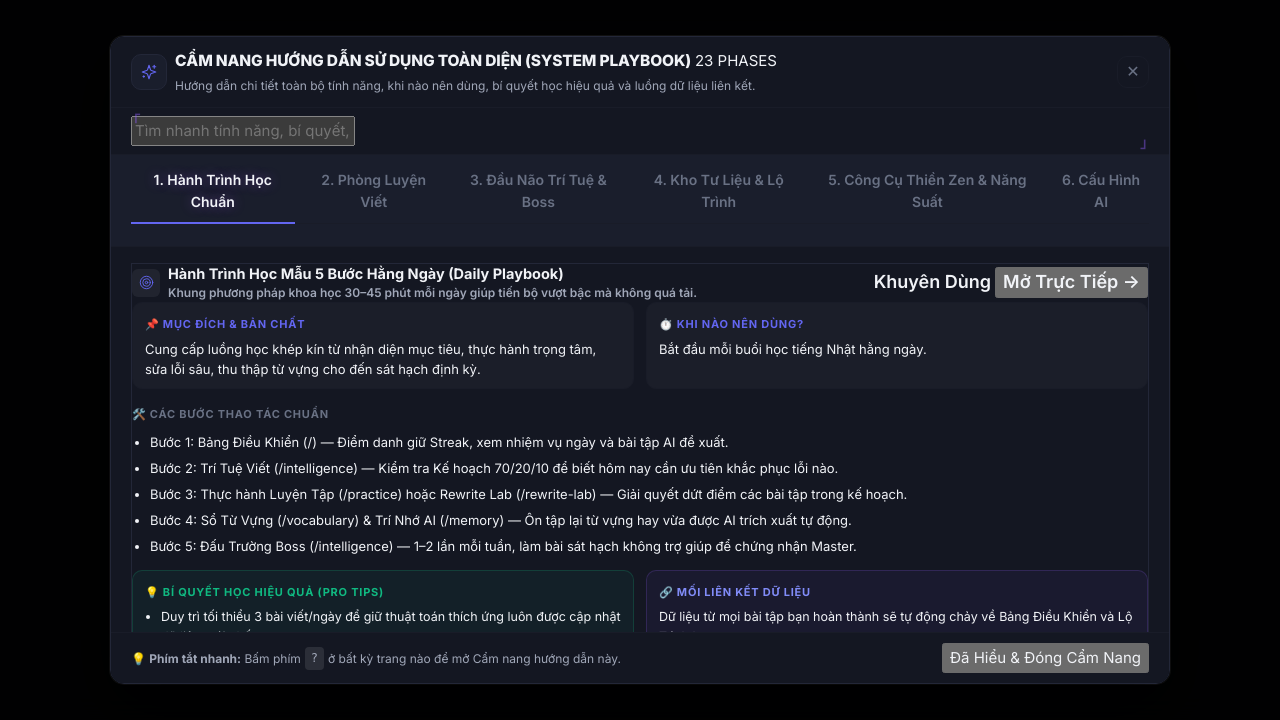
Scenario: SystemGuideModal & SystemGuideButton › switches across category tabs
The width and height of the screenshot is (1280, 720).
Expected: the heading "Hành Trình Học Mẫu 5 Bước Hằng Ngày (Daily Playbook)" is shown, [168,265,564,282]
// Switch to Practice Studios tab
Click the tab "2. Phòng Luyện Viết".
click(374, 192)  # box [306,161,441,224]
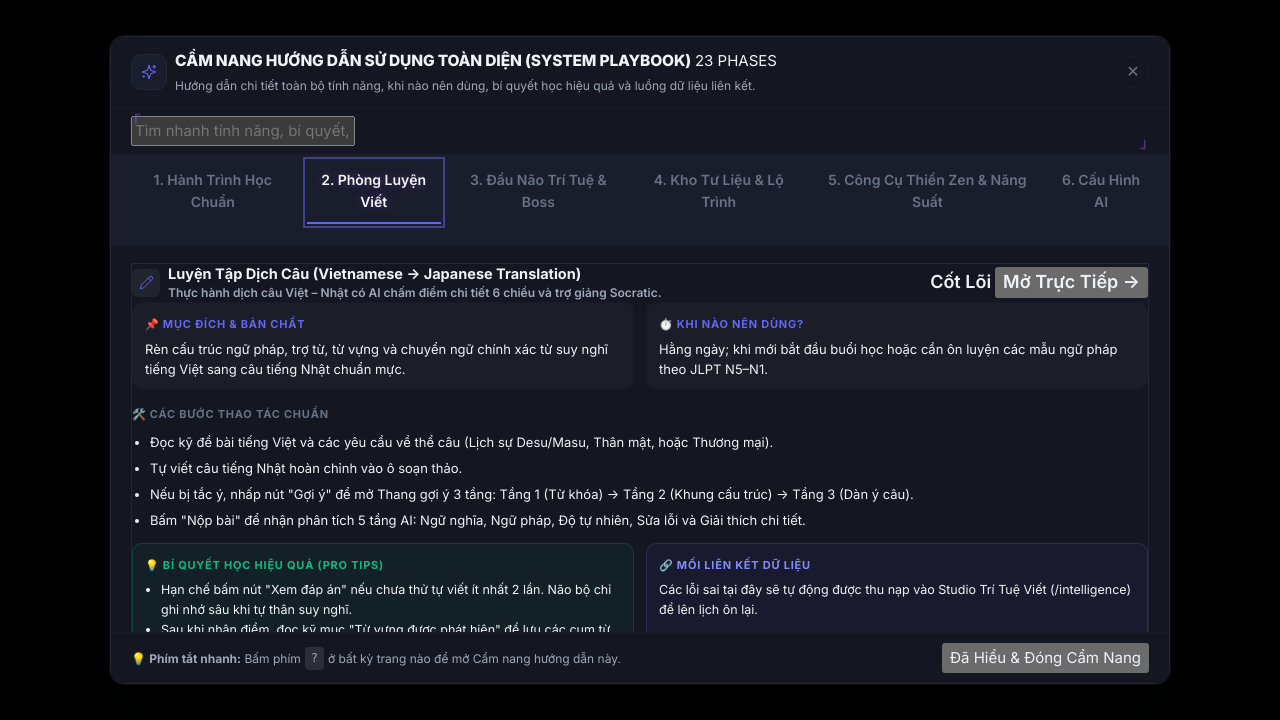
Now the heading "Luyện Tập Dịch Câu (Vietnamese → Japanese Translation)" is shown, box [168,265,581,282]
// Switch to Intelligence & Boss tab
Click the tab "3. Đầu Não Trí Tuệ & Boss".
click(538, 192)  # box [453,161,624,224]
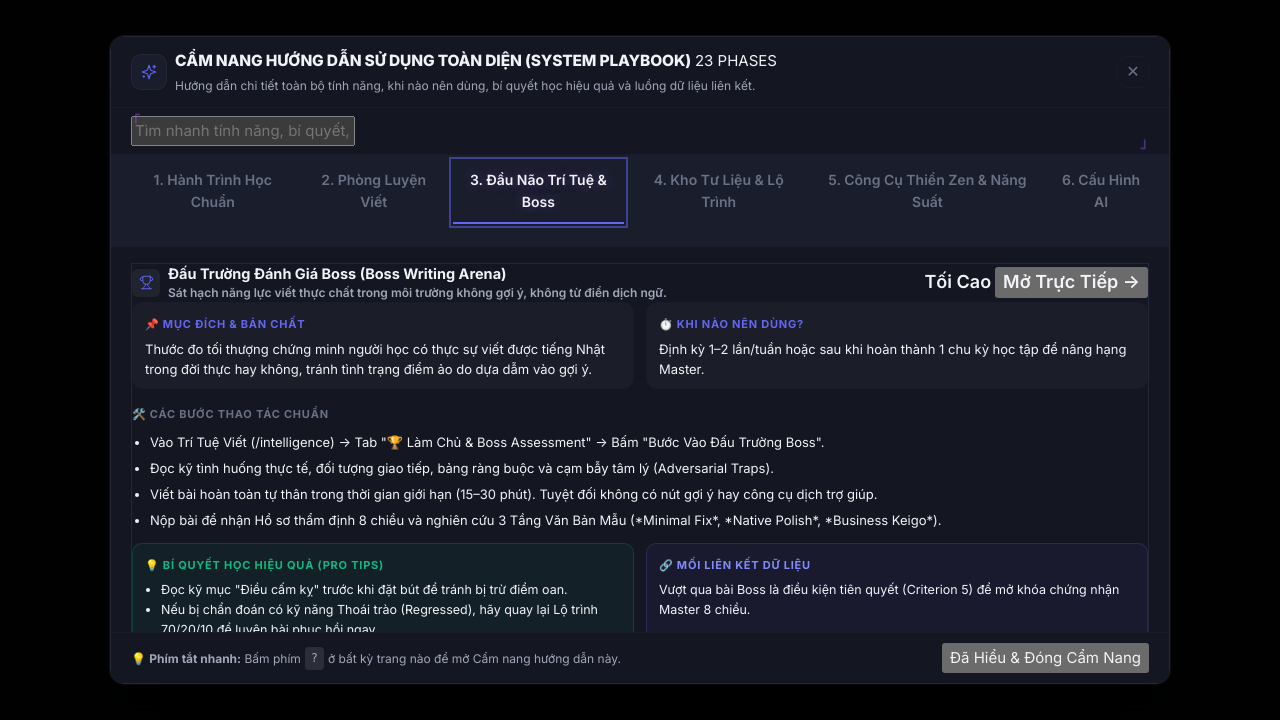
Now the heading "Đấu Trường Đánh Giá Boss (Boss Writing Arena)" is shown, box [168,265,506,282]
// Switch to Zen Tools tab
Click the tab "5. Công Cụ Thiền Zen & Năng Suất".
click(927, 192)  # box [814,161,1041,224]
(page scrolled)
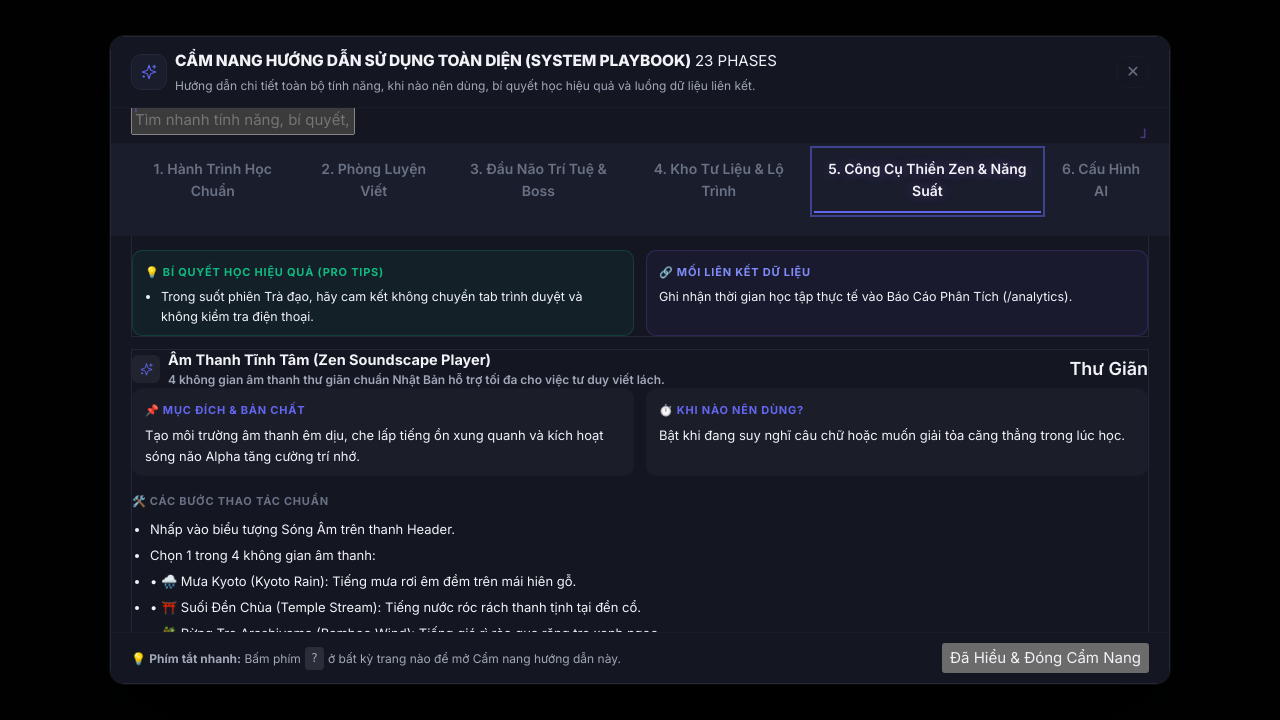
Now the heading "Âm Thanh Tĩnh Tâm (Zen Soundscape Player)" is shown, box [168,351,491,368]
